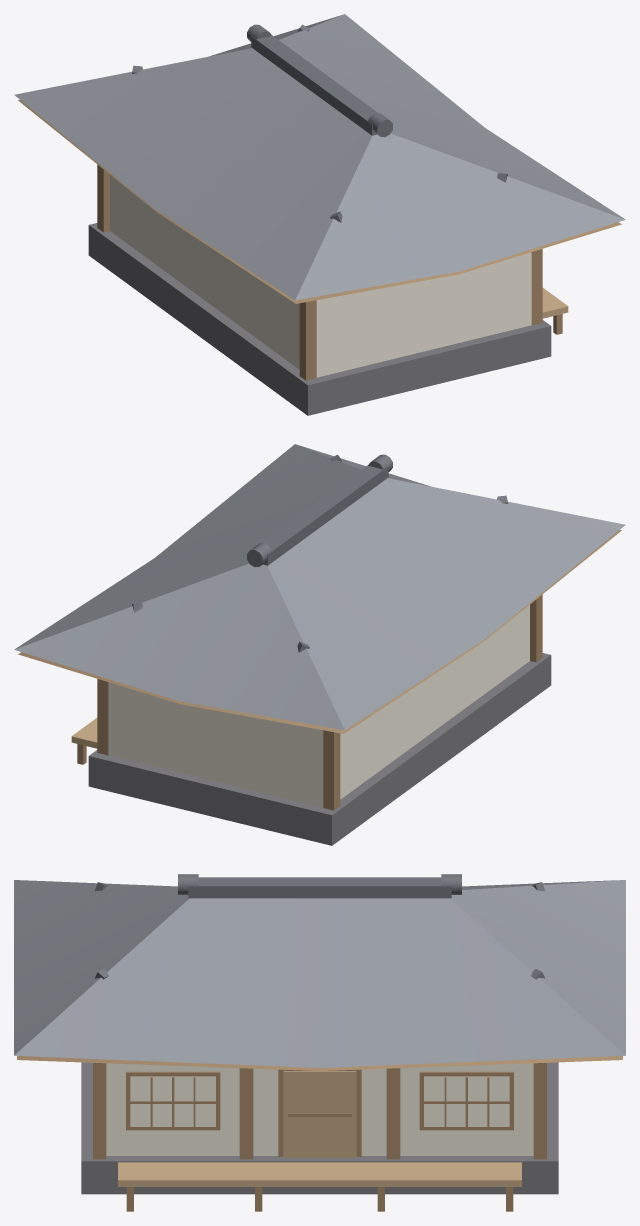
File: JHouse_Tile_A.fbx
The picture shows the model from 3 angles, top to bottom: view 1: azimuth 30°, elevation 25°; view 2: azimuth 150°, elevation 25°; view 3: azimuth 270°, elevation 25°; orthographic projection. The views are drawn at different scales.
Parts seen in each view (by area): view 1: JHouse_Tile_A; view 2: JHouse_Tile_A; view 3: JHouse_Tile_A.
Boxes of the visible parts, bbox=[...] form: JHouse_Tile_A: bbox=[14, 14, 625, 415]; JHouse_Tile_A: bbox=[14, 444, 625, 845]; JHouse_Tile_A: bbox=[14, 874, 625, 1211].
Bounding box in the file's own units: 6.8 × 4.59 × 10.
